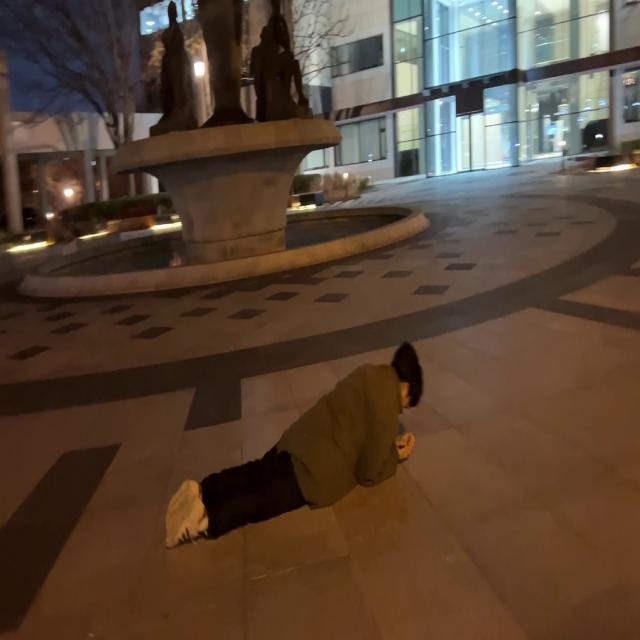Fall: (165, 344, 424, 549)
